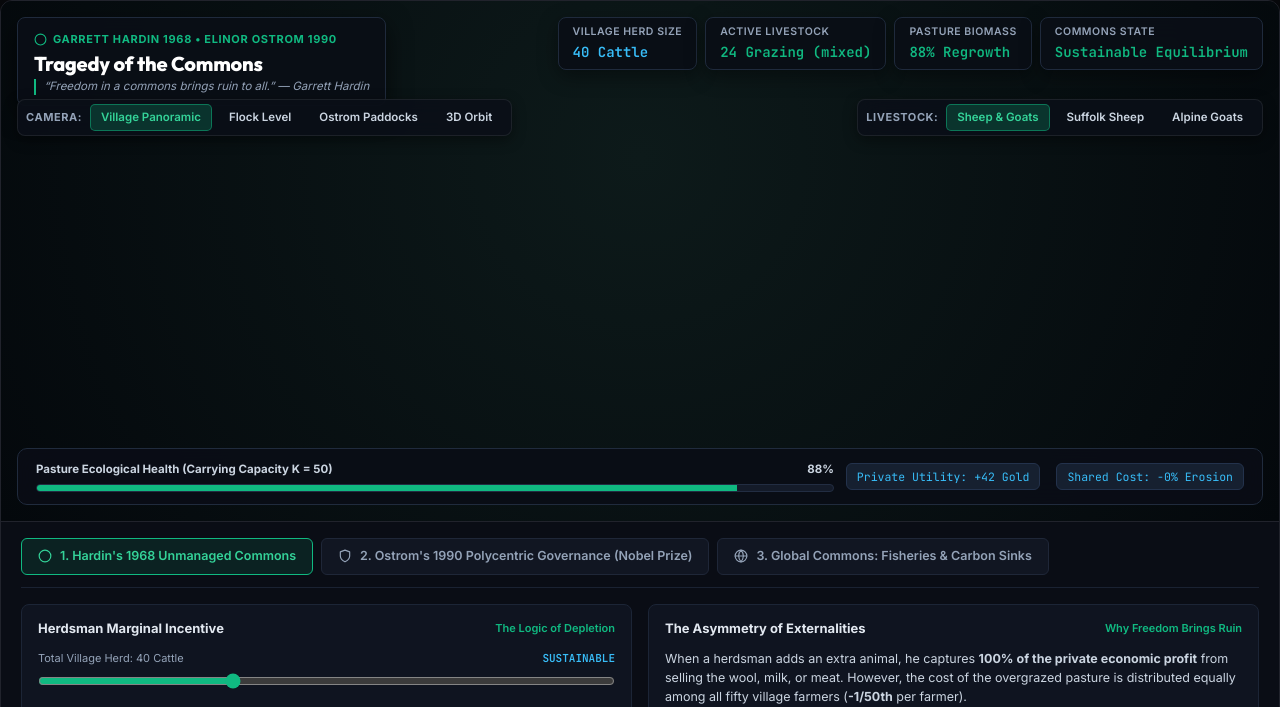
it: TragedyOfCommons3DLab › switches camera presets and livestock flock species
# Camera buttons
Click the button "Flock Level".
click(260, 118)  # box [218,104,302,131]
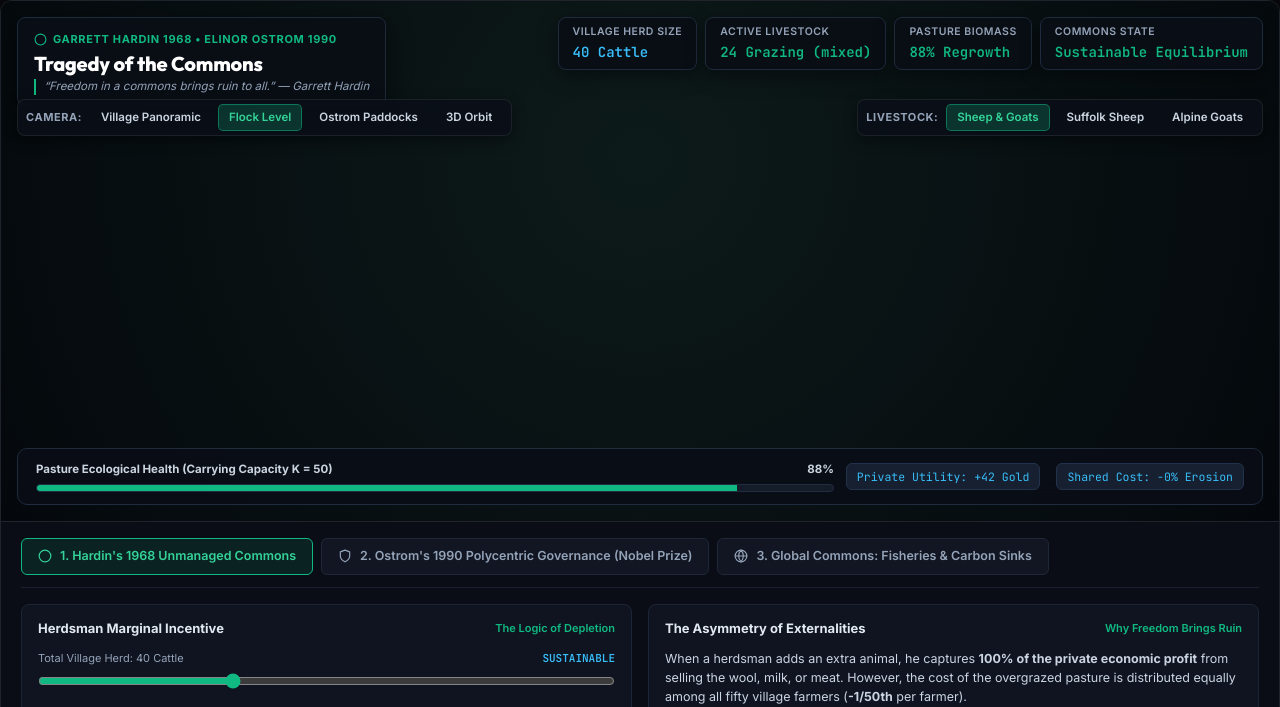
Click the button "Ostrom Paddocks".
click(369, 118)  # box [308,104,429,131]
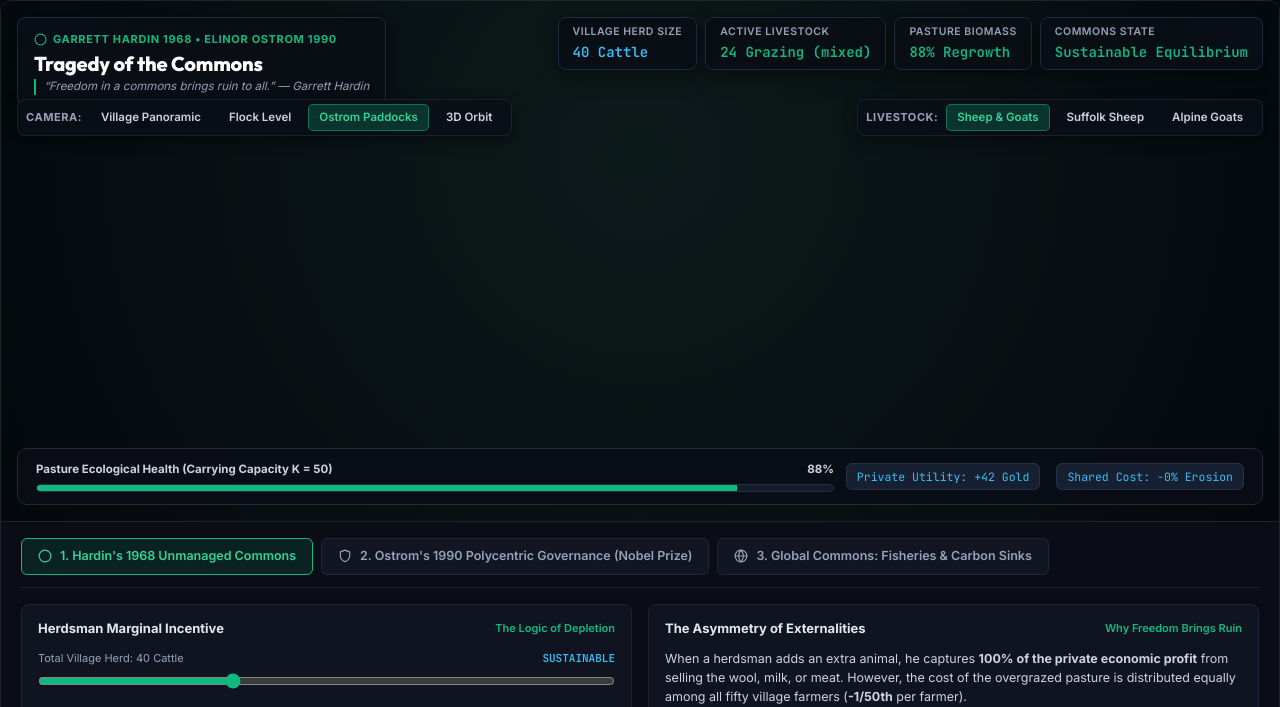
# Livestock flock species buttons
Click the button "Suffolk Sheep".
click(1105, 118)  # box [1056,104,1155,131]
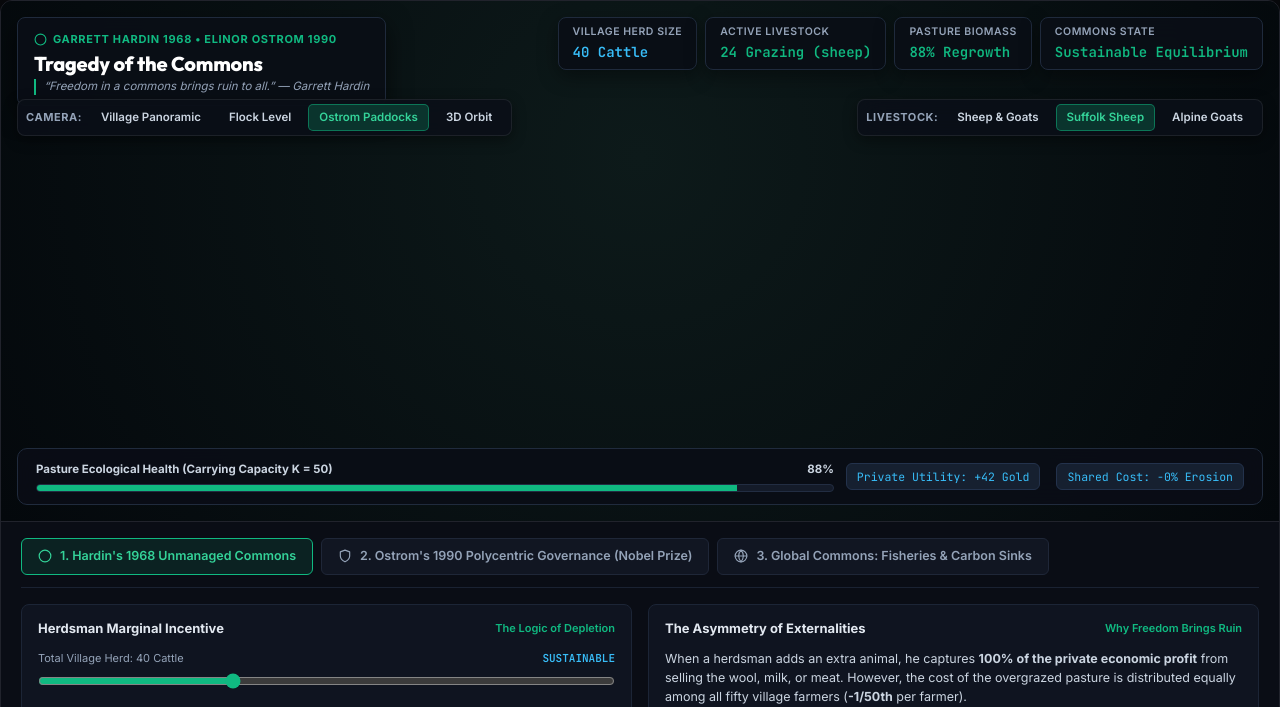
Check: the text "24 Grazing (sheep)" is shown, box [720,42,871,63]
Click the button "Alpine Goats".
click(1208, 118)  # box [1161,104,1254,131]
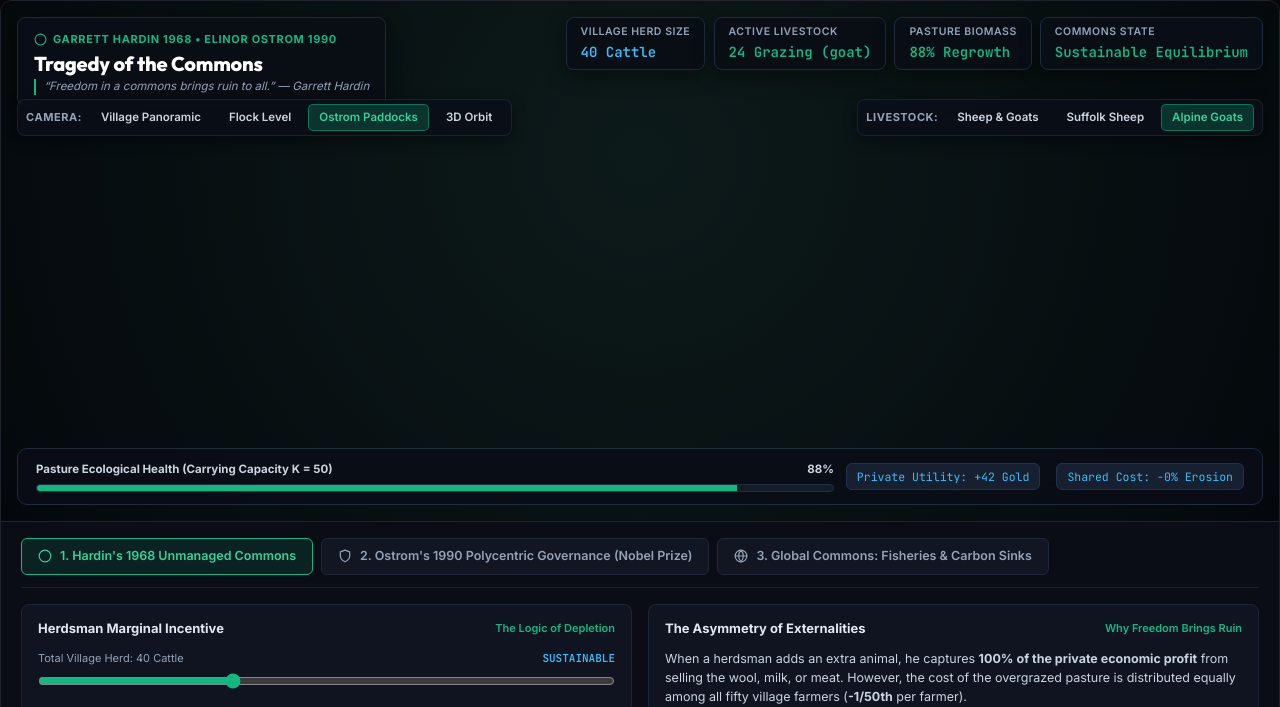
Check: the text "24 Grazing (goat)" is shown, box [729,42,871,63]
